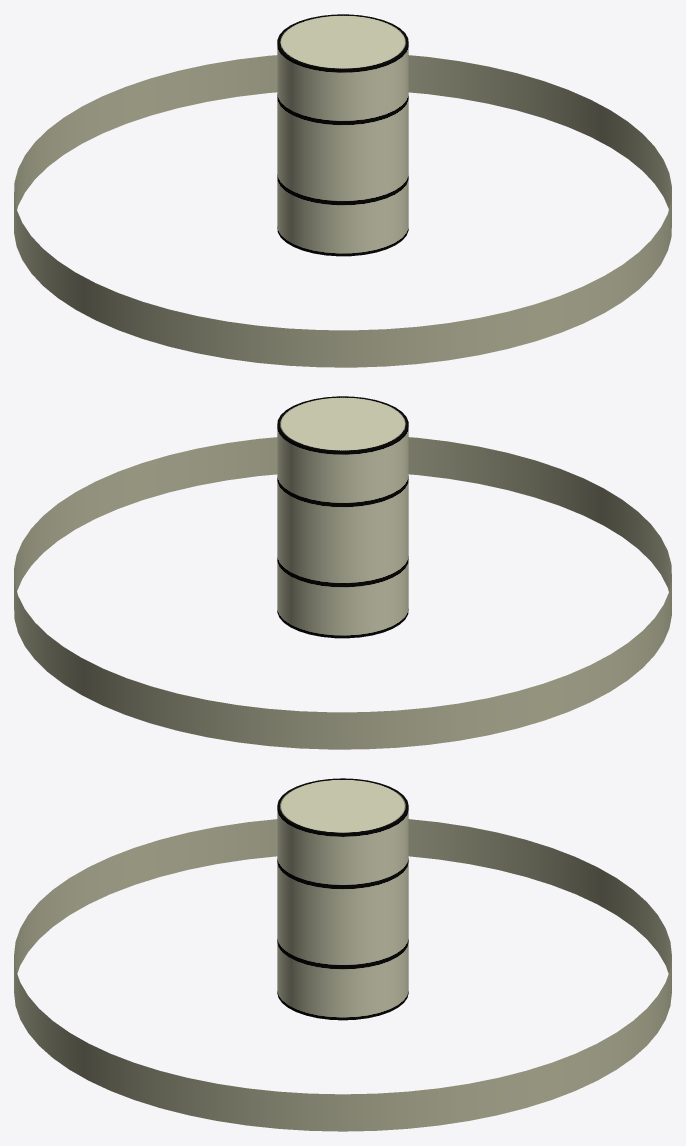
Rendered from barrel_b_r2.obj.
3 views of the same model, one above another, from view 1: azimuth 30°, elevation 25°; view 2: azimuth 150°, elevation 25°; view 3: azimuth 270°, elevation 25° (orthographic).
Parts seen in each view (by area): view 1: barrel_b_r2; view 2: barrel_b_r2; view 3: barrel_b_r2.
Boxes of the visible parts, left/top/right/bottom form: barrel_b_r2: left=14, top=14, right=671, bottom=367; barrel_b_r2: left=14, top=396, right=671, bottom=749; barrel_b_r2: left=14, top=778, right=671, bottom=1131.
Bounding box in the file's own units: 4 × 1.25 × 4.
3 materials, 3 textured.
